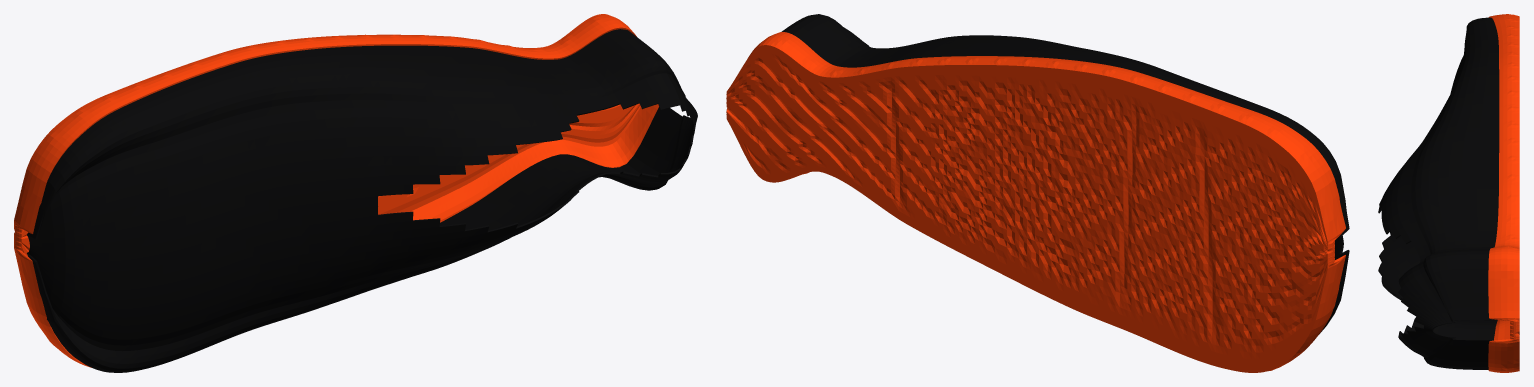
Rendered from right_textile_concept_assembly.obj.
3 views of the same model, side by side, from view 1: azimuth 30°, elevation 25°; view 2: azimuth 150°, elevation 25°; view 3: azimuth 270°, elevation 25° (orthographic). The views are drawn at different scales.
Parts seen in each view (by area): view 1: right_textile_upper_preview_only, right_tpu_outsole; view 2: right_tpu_outsole, right_textile_upper_preview_only; view 3: right_textile_upper_preview_only, right_tpu_outsole.
Boxes of the visible parts, x1=… form: right_textile_upper_preview_only: x1=27, y1=29, x2=697, y2=372; right_tpu_outsole: x1=14, y1=14, x2=658, y2=367; right_tpu_outsole: x1=726, y1=32, x2=1345, y2=372; right_textile_upper_preview_only: x1=781, y1=14, x2=1349, y2=334; right_textile_upper_preview_only: x1=1378, y1=17, x2=1499, y2=369; right_tpu_outsole: x1=1488, y1=14, x2=1519, y2=372.
Size of the model in its own units: 279 by 118 by 65.84.
